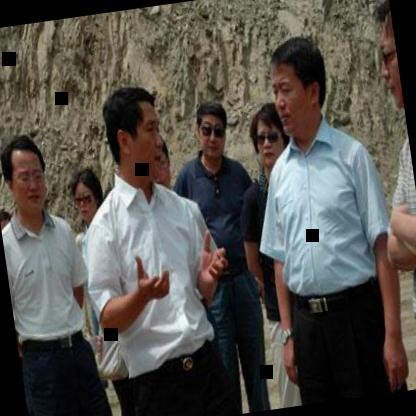head: (260, 27, 335, 145), (95, 77, 170, 192), (0, 128, 54, 221), (367, 0, 406, 126), (246, 101, 291, 175), (192, 97, 235, 166), (67, 164, 107, 226), (0, 203, 14, 249)
